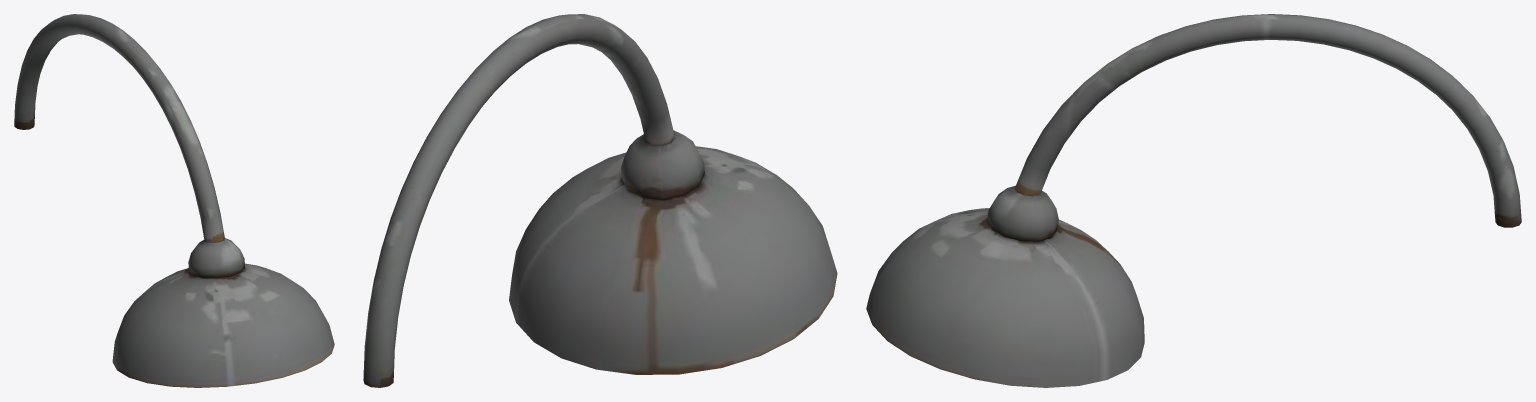
3 views of the same model, side by side, from view 1: azimuth 30°, elevation 25°; view 2: azimuth 150°, elevation 25°; view 3: azimuth 270°, elevation 25° (orthographic). The views are drawn at different scales.
Parts seen in each view (by area): view 1: body0_model0_lod0_mesh0; view 2: body0_model0_lod0_mesh0; view 3: body0_model0_lod0_mesh0.
Boxes of the visible parts, box(x1,y1,x2,y2) form: body0_model0_lod0_mesh0: box(14, 14, 334, 387); body0_model0_lod0_mesh0: box(363, 14, 837, 387); body0_model0_lod0_mesh0: box(866, 14, 1521, 387).
Size of the model in its own units: 36.94 by 47.67 by 85.98.
Materials: 1 (1 with a texture image).
